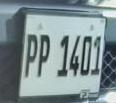0: (81, 29, 94, 82)
1: (57, 30, 70, 83), (91, 32, 103, 80)
4: (69, 29, 82, 83)
P: (37, 26, 53, 86), (26, 24, 40, 88)
